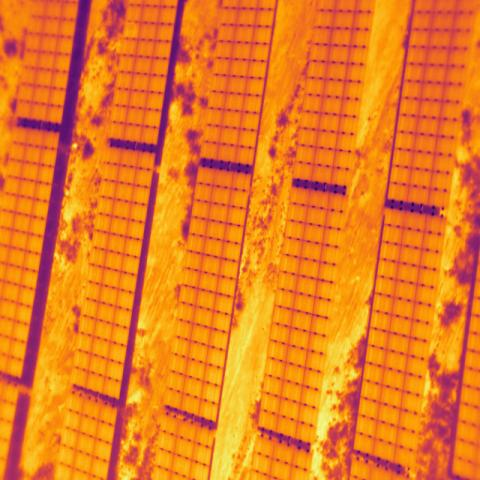fault: (123, 20, 141, 38)
